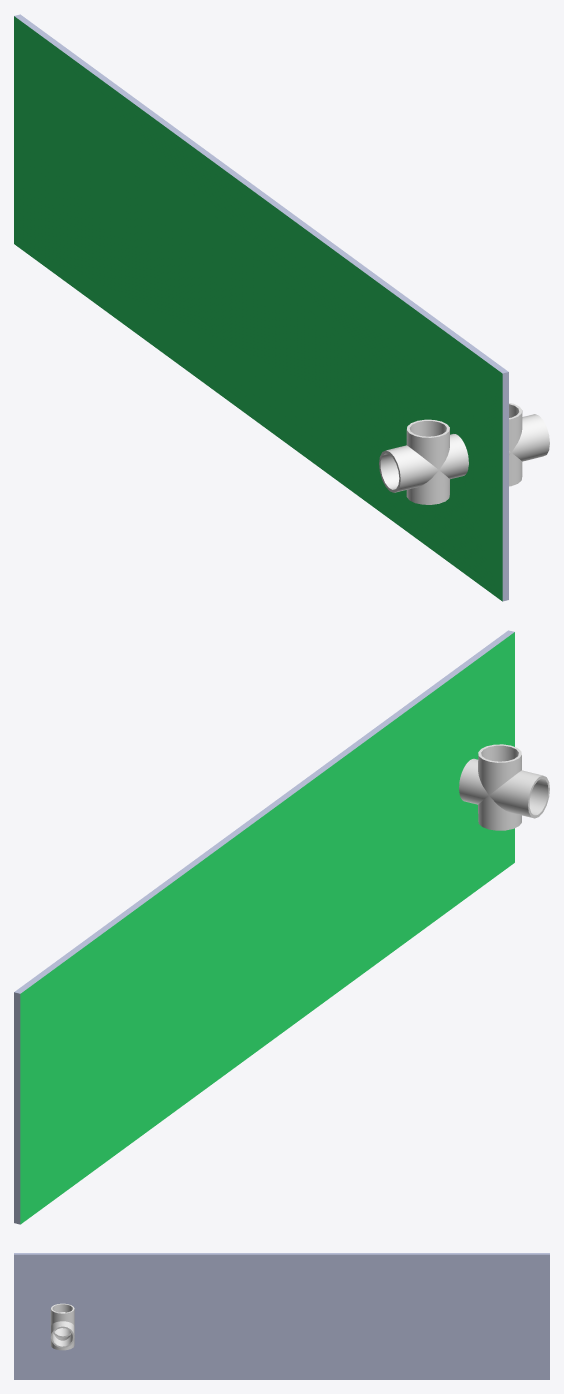
File: Stake_throught_heart_pokryweczka_bez_raczki.obj
3 views of the same model, one above another, from view 1: azimuth 30°, elevation 25°; view 2: azimuth 150°, elevation 25°; view 3: azimuth 270°, elevation 25° (orthographic). The views are drawn at different scales.
Visible parts, largest first — view 1: Bryła3, Bryła1; view 2: Bryła3, Bryła1; view 3: Bryła3, Bryła1.
Boxes of the visible parts, <box> form: Bryła3: <box>14,14,508,601</box>; Bryła1: <box>379,403,549,504</box>; Bryła3: <box>14,630,514,1224</box>; Bryła1: <box>459,744,549,830</box>; Bryła3: <box>14,1253,549,1379</box>; Bryła1: <box>50,1303,74,1350</box>.
Bounding box in the file's own units: 116 × 170 × 660.
